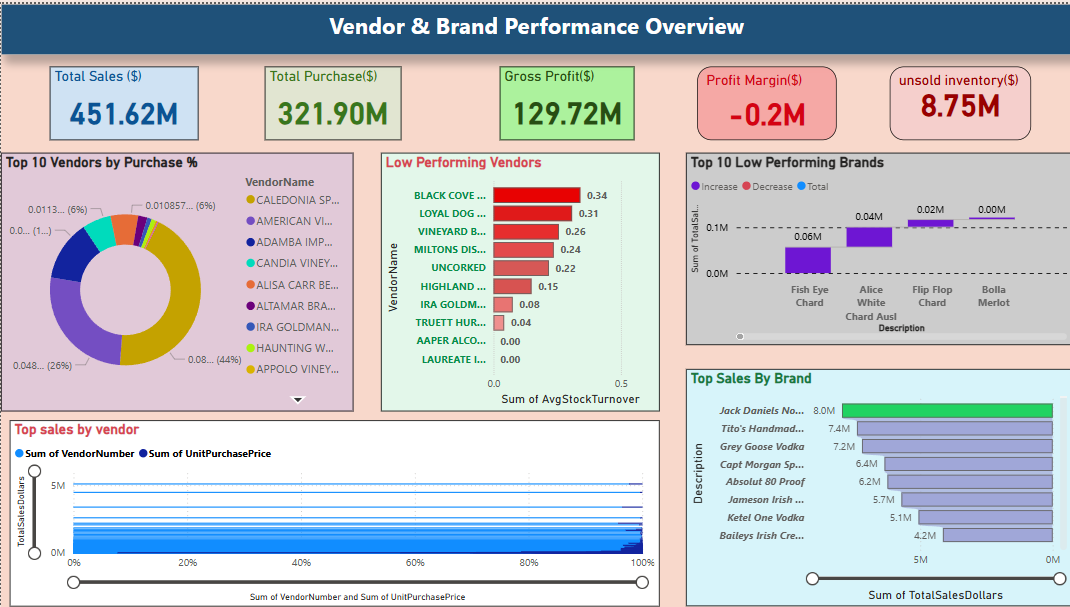

The page's visual inventory and layout, read from the dashboard file:
{"tool":"powerbi","page":{"name":"Page 1","canvas":[1280,720],"ordinal":0},"visuals":[{"type":"textbox","box":[0,0,1279.7,60.8],"z":0},{"type":"card","title":"Total Sales ($)","fields":{"Values":["vendor_summary.TotalSalesDollars"]},"box":[58.2,74.6,177.6,88.1],"z":1},{"type":"card","title":"Total Purchase($)","fields":{"Values":["vendor_summary.TotalPurchaseDollars"]},"box":[314.9,74.3,163.5,87.8],"z":2},{"type":"card","title":"Gross Profit($)","fields":{"Values":["vendor_summary.GrossProfit"]},"box":[595.9,74.3,160.8,87.8],"z":3},{"type":"card","title":"Profit Margin($)","fields":{"Values":["vendor_summary.ProfitMargin"]},"box":[831.1,74.3,166.2,87.8],"z":4},{"type":"card","title":"unsold inventory($)","fields":{"Values":["vendor_summary.UnsoldCapital"]},"box":[1060.8,74.3,168.9,87.8],"z":5},{"type":"donutChart","title":"Top 10 Vendors by Purchase %","fields":{"Y":["PurchaseContribution.PurchaseContribution%"],"Category":["PurchaseContribution.VendorName"]},"box":[0,177.6,420.9,309],"z":6},{"type":"hundredPercentStackedBarChart","title":"Top sales by vendor","fields":{"Category":["vendor_summary.TotalSalesDollars"],"Y":["vendor_summary.VendorNumber","vendor_summary.UnitPurchasePrice"]},"box":[10.4,497,776.1,222.4],"z":7},{"type":"barChart","title":"Top Sales By Brand","fields":{"Category":["vendor_summary.Description"],"Y":["vendor_summary.TotalSalesDollars"]},"box":[817.9,435.8,461.2,283.6],"z":8},{"type":"clusteredBarChart","title":"Low Performing Vendors","fields":{"Category":["LowTurnover_Vendor.VendorName"],"Y":["LowTurnover_Vendor.AvgStockTurnover"]},"box":[453.7,177.6,332.8,309],"z":9},{"type":"waterfallChart","title":"Top 10 Low Performing Brands","fields":{"Category":["LowPerformingBrands.Description"],"Y":["LowPerformingBrands.TotalSales"]},"box":[817.9,177.6,461.2,229.9],"z":10}]}

Visuals, with their boxes in screenshot pixels (x1, y1, x2, y2), scaled from the page's 1280x720 canvas onto the 1070x607 screenshot:
textbox: box=[0, 0, 1069, 51]
"Total Sales ($)" card: box=[49, 63, 197, 137]
"Total Purchase($)" card: box=[263, 63, 400, 137]
"Gross Profit($)" card: box=[498, 63, 633, 137]
"Profit Margin($)" card: box=[695, 63, 834, 137]
"unsold inventory($)" card: box=[887, 63, 1028, 137]
"Top 10 Vendors by Purchase %" donutChart: box=[0, 150, 352, 410]
"Top sales by vendor" hundredPercentStackedBarChart: box=[9, 419, 657, 606]
"Top Sales By Brand" barChart: box=[684, 367, 1069, 606]
"Low Performing Vendors" clusteredBarChart: box=[379, 150, 657, 410]
"Top 10 Low Performing Brands" waterfallChart: box=[684, 150, 1069, 344]
